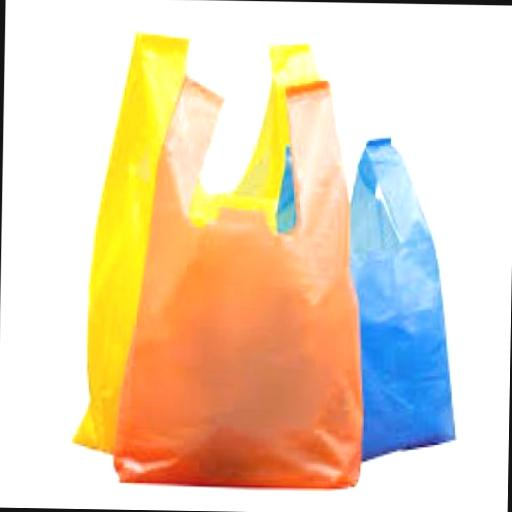plastic: (72, 30, 324, 452), (115, 74, 368, 486), (272, 133, 464, 462)
